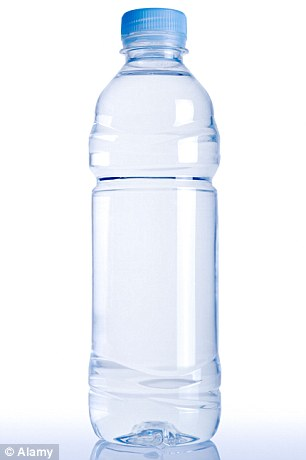Rec_Plastic: (68, 1, 236, 443)
